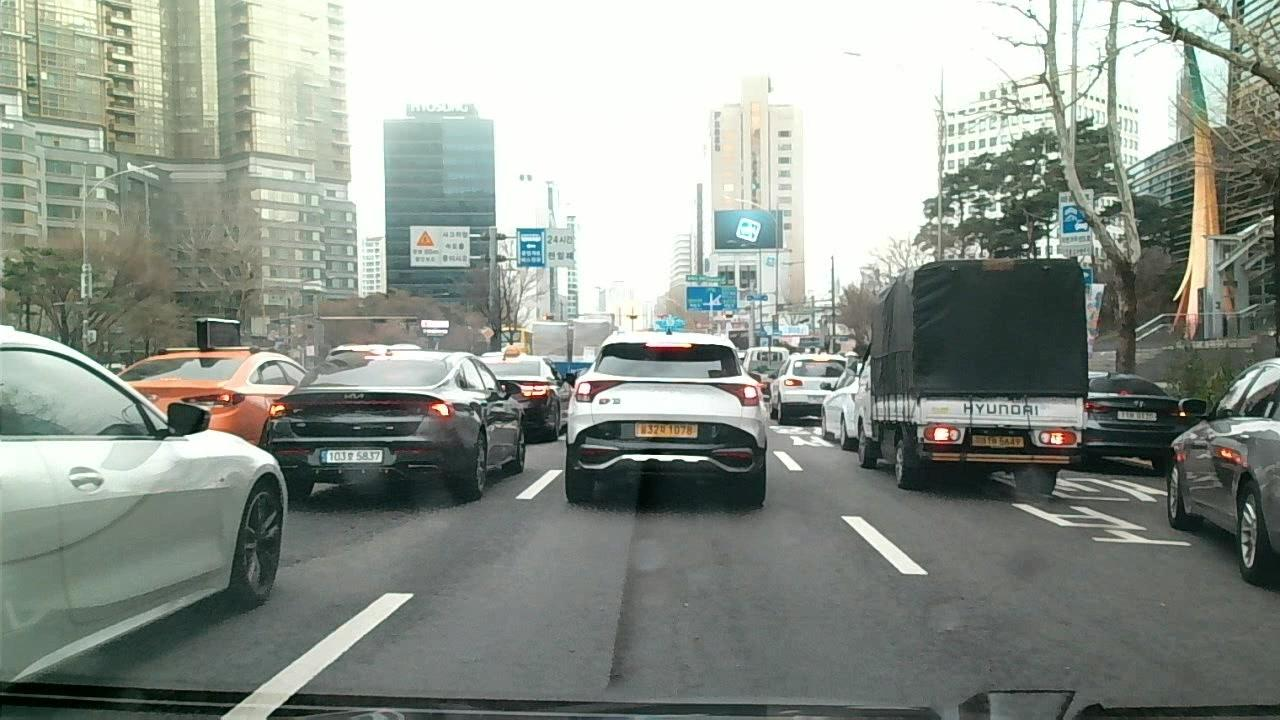vcrack: (599, 530, 637, 688)
